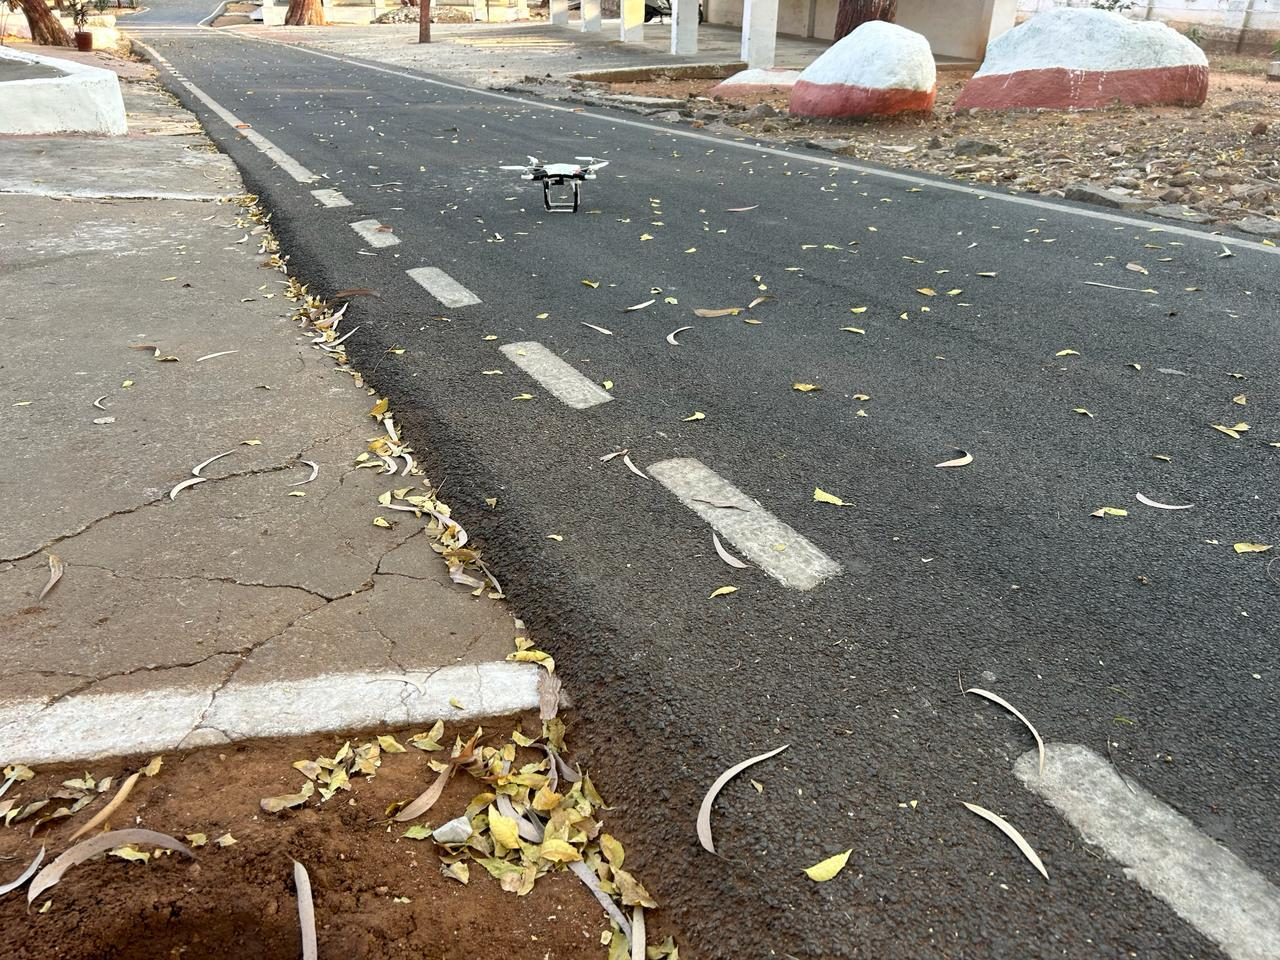drone: (471, 128, 647, 232)
